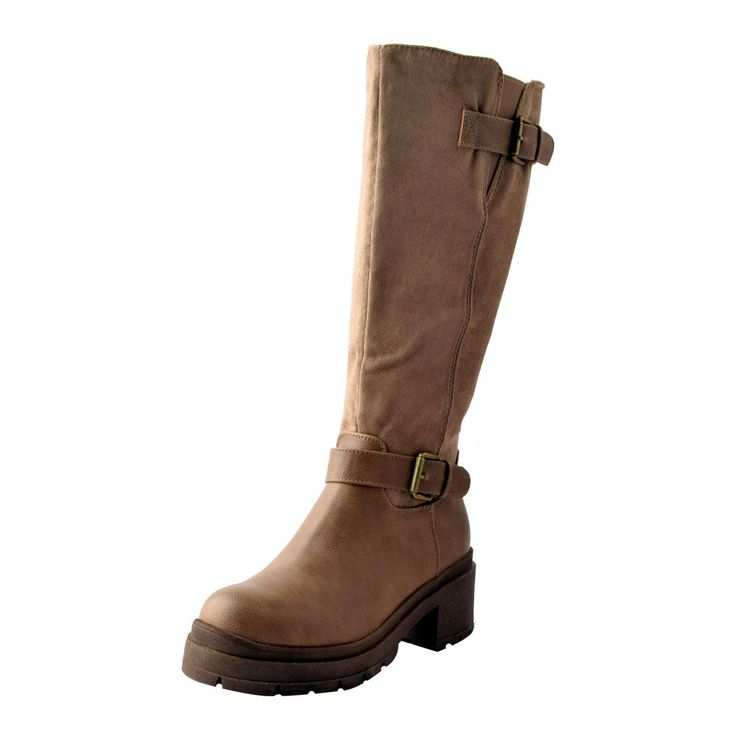gamuza: (197, 43, 554, 648)
